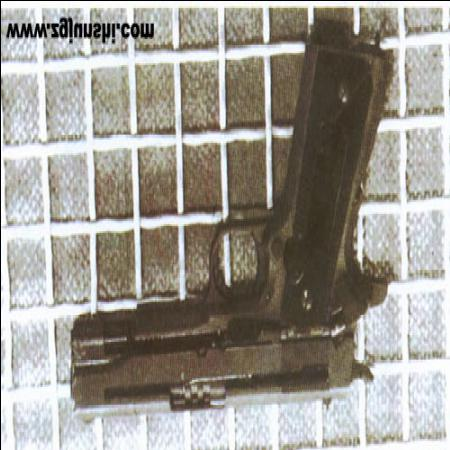Pistol: (66, 34, 392, 425)
